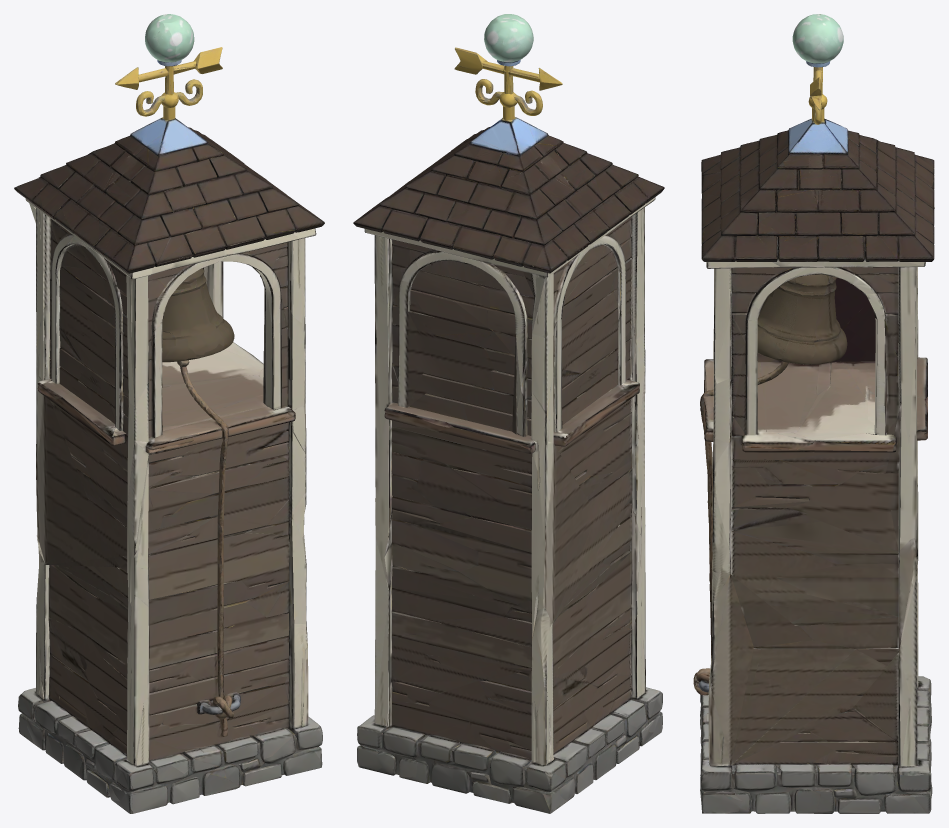
Rendered from purgesiren.glb.
The picture shows the model from 3 angles, left to right: view 1: azimuth 30°, elevation 25°; view 2: azimuth 150°, elevation 25°; view 3: azimuth 270°, elevation 25°; orthographic projection. The views are drawn at different scales.
Size of the model in its own units: 0.539 by 1.9 by 0.5552.
1 material, 1 textured.
